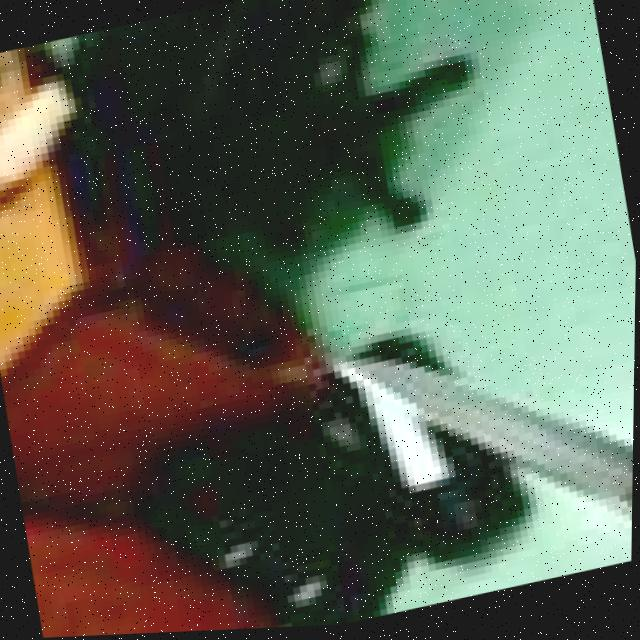knife: (313, 282, 636, 612)
